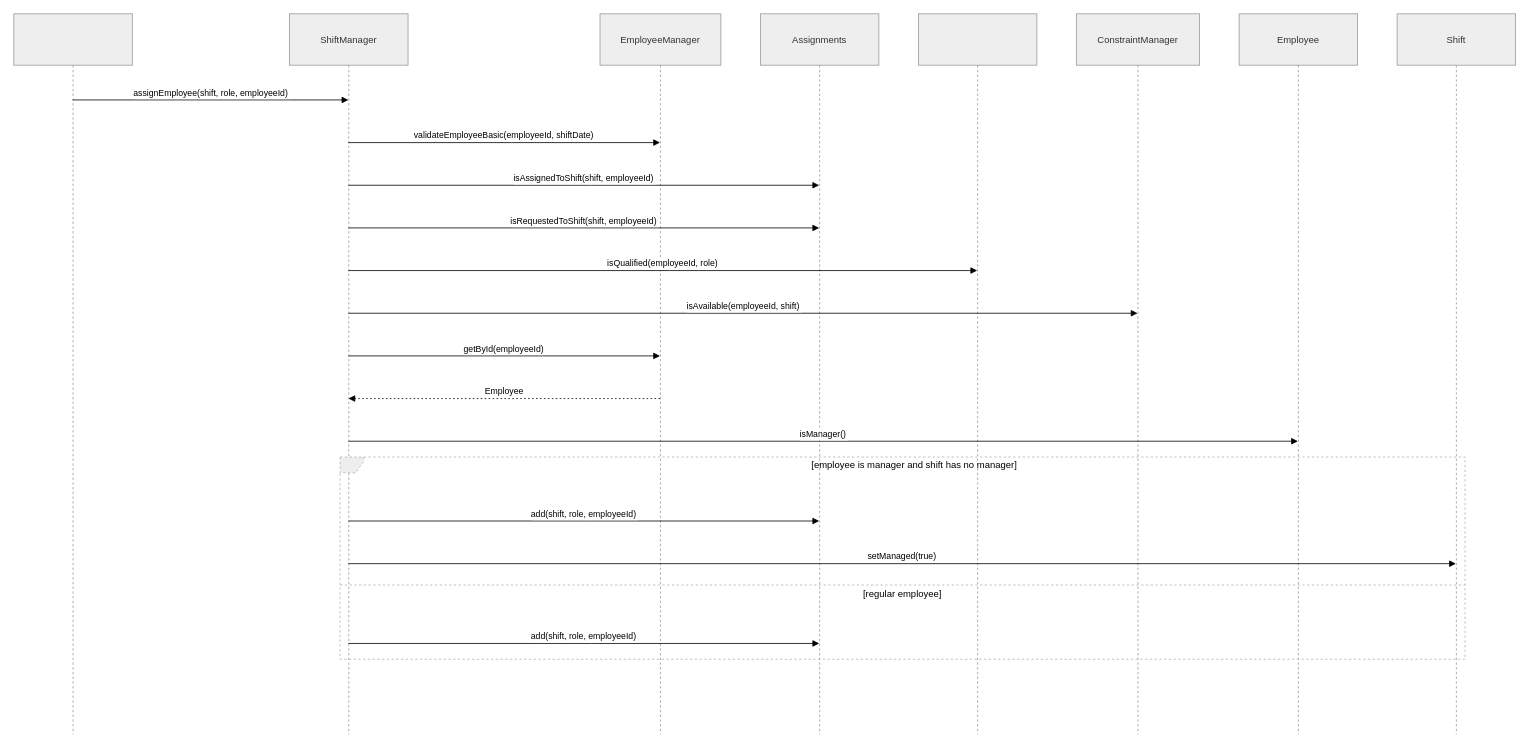
Image size: 1529x748. Some labels were removed from this diagram. Each missing label, with the box of its shape:
alt: (339, 456, 1465, 659)
RoleManager: (918, 13, 1037, 734)
ShiftService: (13, 13, 132, 734)
